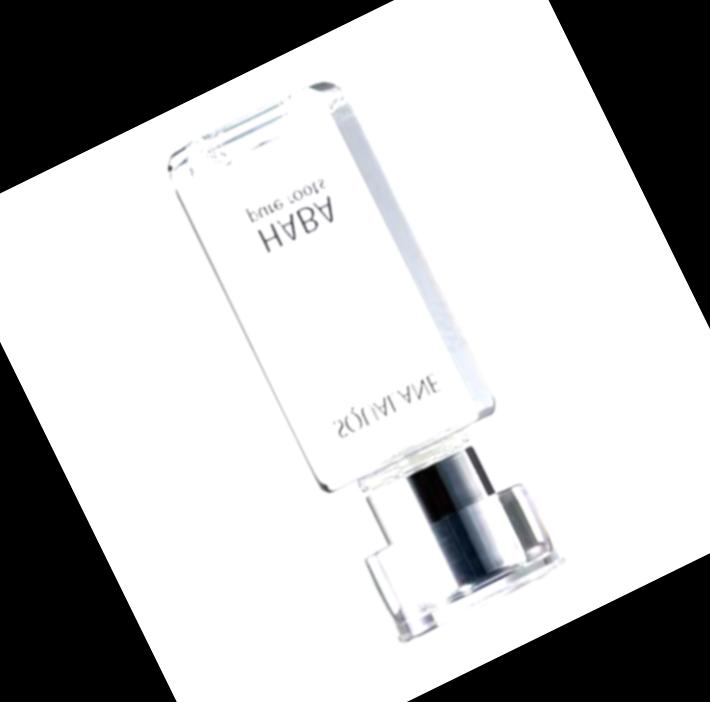cosmetic: (157, 72, 576, 649)
